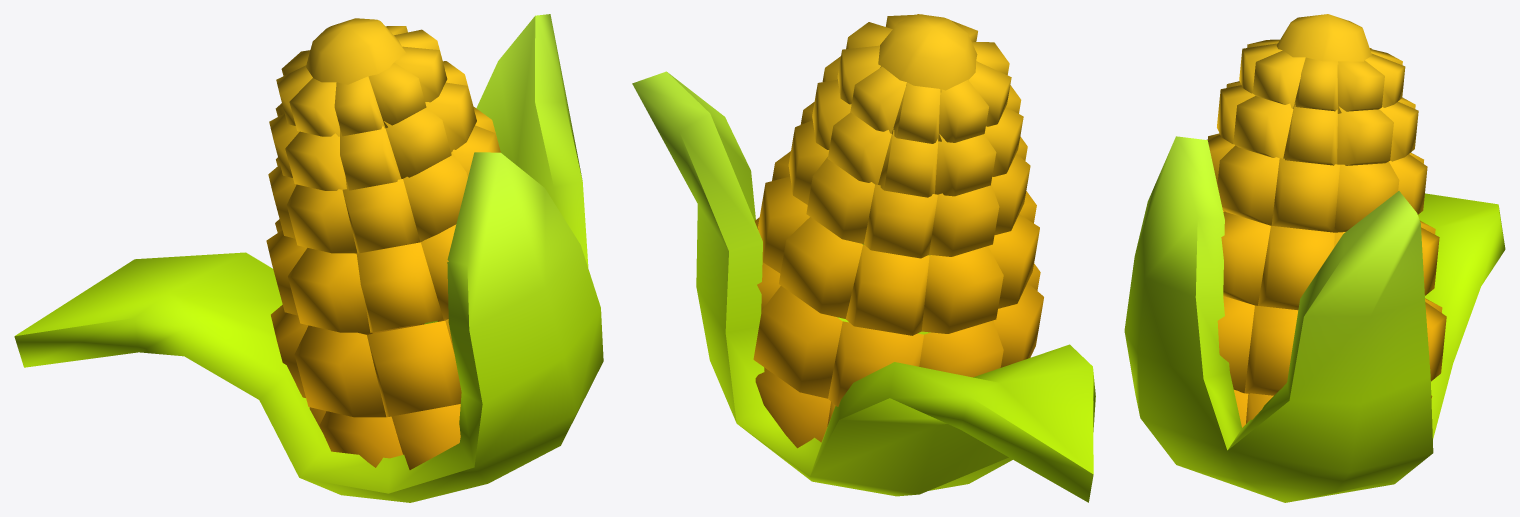
File: Farm_Crop_Corn_01.glb
The picture shows the model from 3 angles, left to right: view 1: azimuth 30°, elevation 25°; view 2: azimuth 150°, elevation 25°; view 3: azimuth 270°, elevation 25°; orthographic projection. The views are drawn at different scales.
Visible parts, largest first — view 1: Farm_Crop_Corn_01; view 2: Farm_Crop_Corn_01; view 3: Farm_Crop_Corn_01.
Part boxes in pixels (left/top/right/bottom): Farm_Crop_Corn_01: left=14, top=14, right=603, bottom=502; Farm_Crop_Corn_01: left=632, top=14, right=1095, bottom=502; Farm_Crop_Corn_01: left=1124, top=14, right=1505, bottom=502.
Bounding box in the file's own units: 1.05 × 0.9185 × 0.7169.
1 material, 1 textured.
